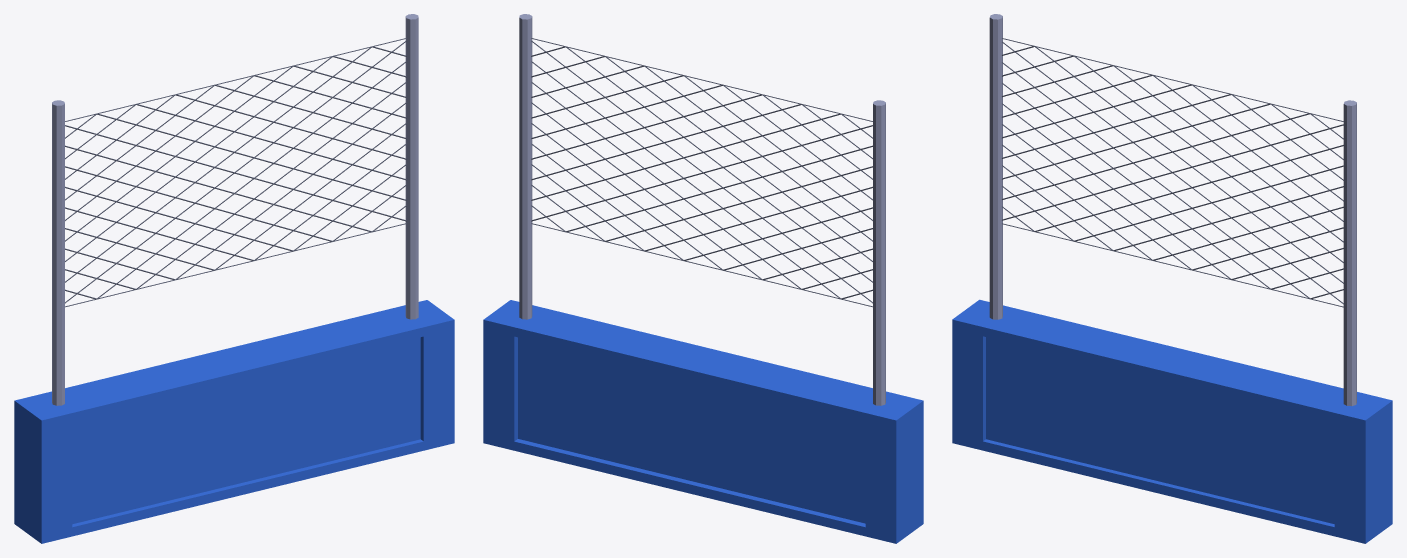
File: bigBarrier.glb
3 views of the same model, side by side, from view 1: azimuth 30°, elevation 25°; view 2: azimuth 150°, elevation 25°; view 3: azimuth 330°, elevation 25° (orthographic).
Visible parts, largest first — view 1: Barrier; view 2: Barrier; view 3: Barrier.
Part boxes in pixels (left/top/right/bottom): Barrier: left=14, top=14, right=454, bottom=543; Barrier: left=483, top=14, right=923, bottom=543; Barrier: left=952, top=14, right=1392, bottom=543.
Size of the model in its own units: 3.5 by 3.43 by 0.4.
